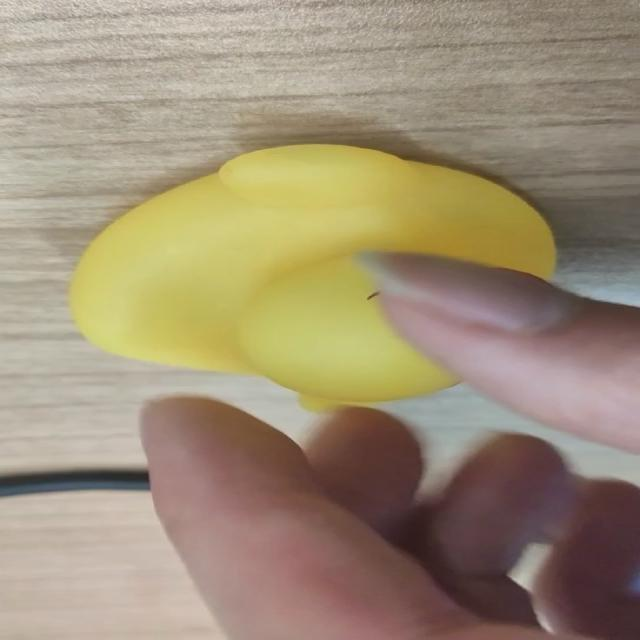rubber-duck: (69, 143, 553, 404)
